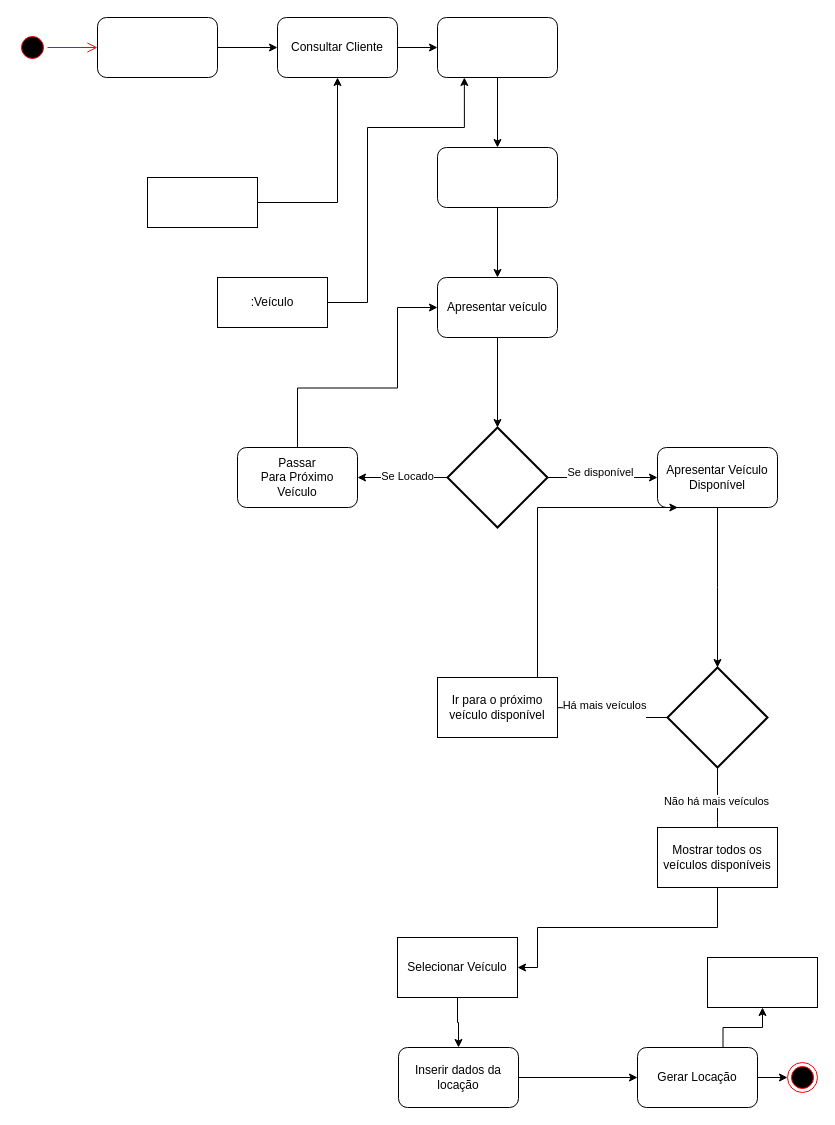
This 835x1125 diagram has some shape labels left out. Each missing label, with the box of its shape:
:Cliente: (146, 176, 258, 228)
:Locação: (706, 956, 818, 1008)
Consultar Veículos: (436, 16, 558, 78)
Posicionar Primeiro Veículo: (436, 146, 558, 208)
Receber Locação: (96, 16, 218, 78)
